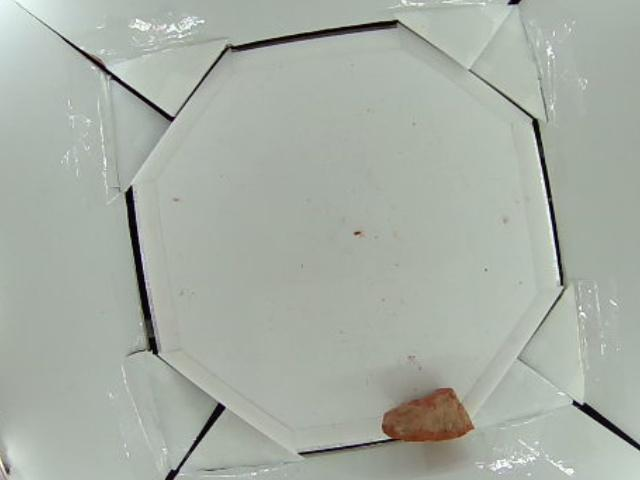Brisk: (384, 389, 472, 441)
